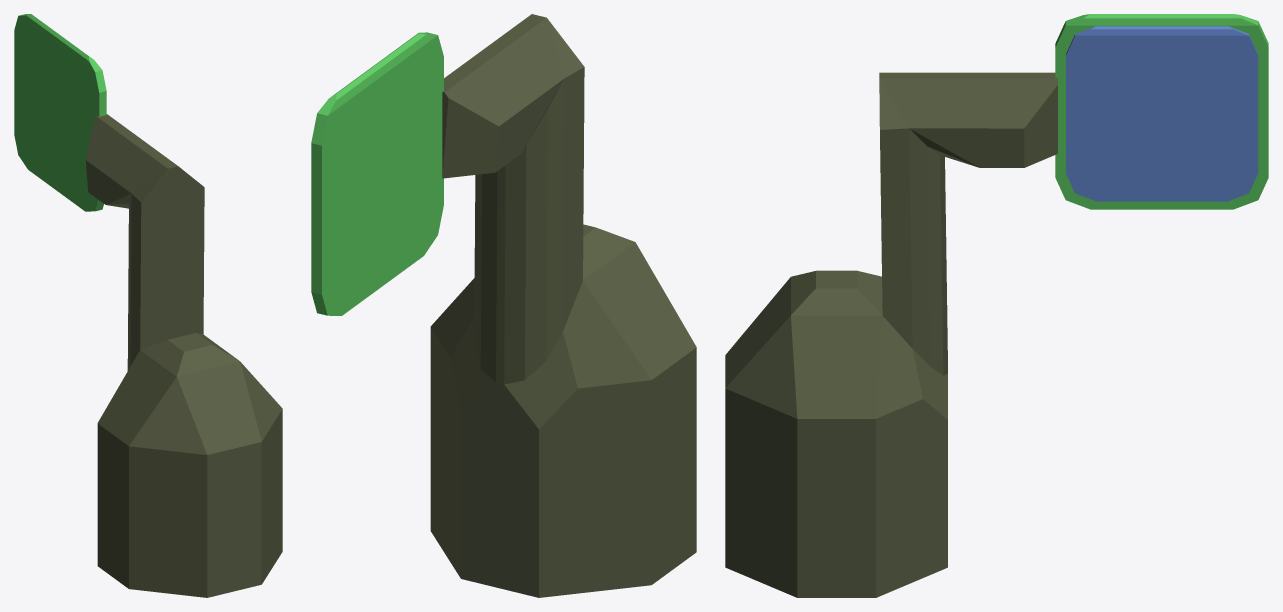
The model's file is table1.fbx.
3 views of the same model, side by side, from view 1: azimuth 30°, elevation 25°; view 2: azimuth 150°, elevation 25°; view 3: azimuth 270°, elevation 25° (orthographic). The views are drawn at different scales.
Parts seen in each view (by area): view 1: table1; view 2: table1; view 3: table1.
Boxes of the visible parts, x1,y1,x2,y2 form: table1: [14, 14, 282, 597]; table1: [311, 14, 696, 597]; table1: [725, 14, 1268, 597].
Bounding box in the file's own units: 209 × 556 × 510.
